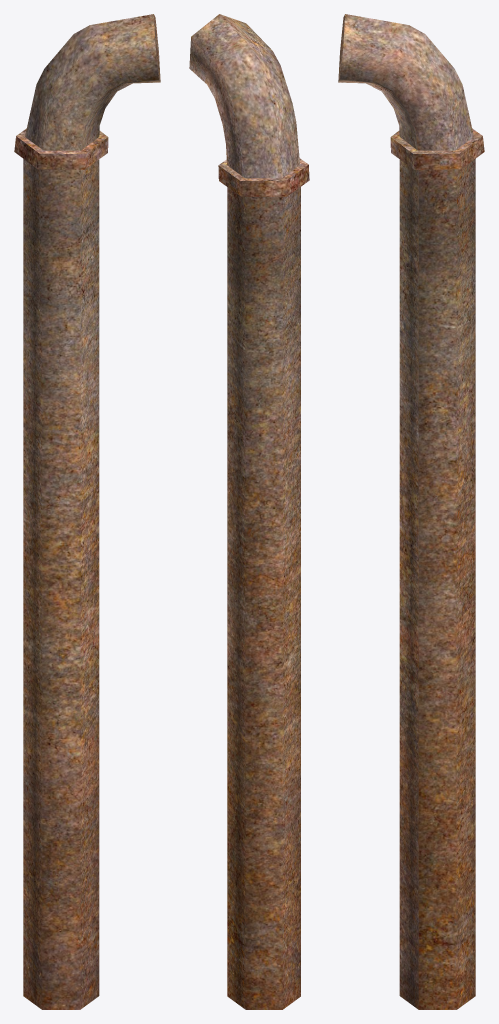
File: Iron pipe.fbx
The picture shows the model from 3 angles, left to right: view 1: azimuth 90°, elevation 25°; view 2: azimuth 210°, elevation 25°; view 3: azimuth 270°, elevation 25°; orthographic projection. The views are drawn at different scales.
Parts seen in each view (by area): view 1: Cylinder; view 2: Cylinder; view 3: Cylinder.
Part boxes in pixels (left/top/right/bottom): Cylinder: left=14, top=14, right=160, bottom=1009; Cylinder: left=189, top=14, right=309, bottom=1009; Cylinder: left=338, top=14, right=484, bottom=1009.
Bounding box in the file's own units: 14.22 × 189 × 25.56.
